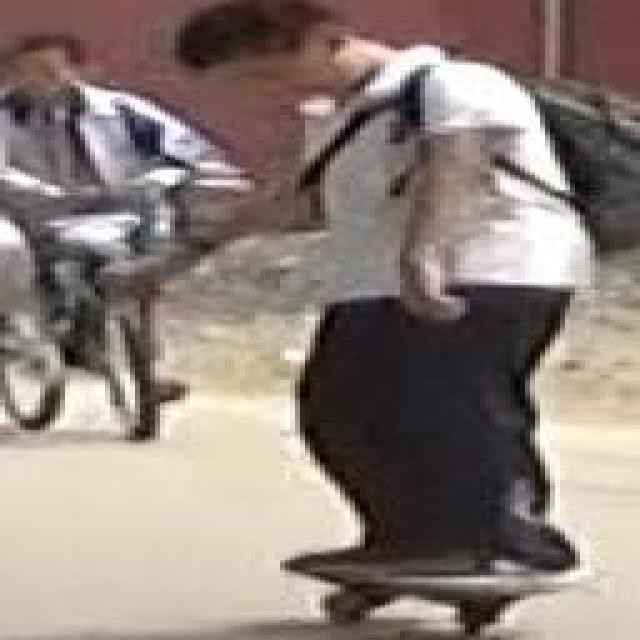child: (165, 5, 640, 583), (0, 37, 221, 373)
